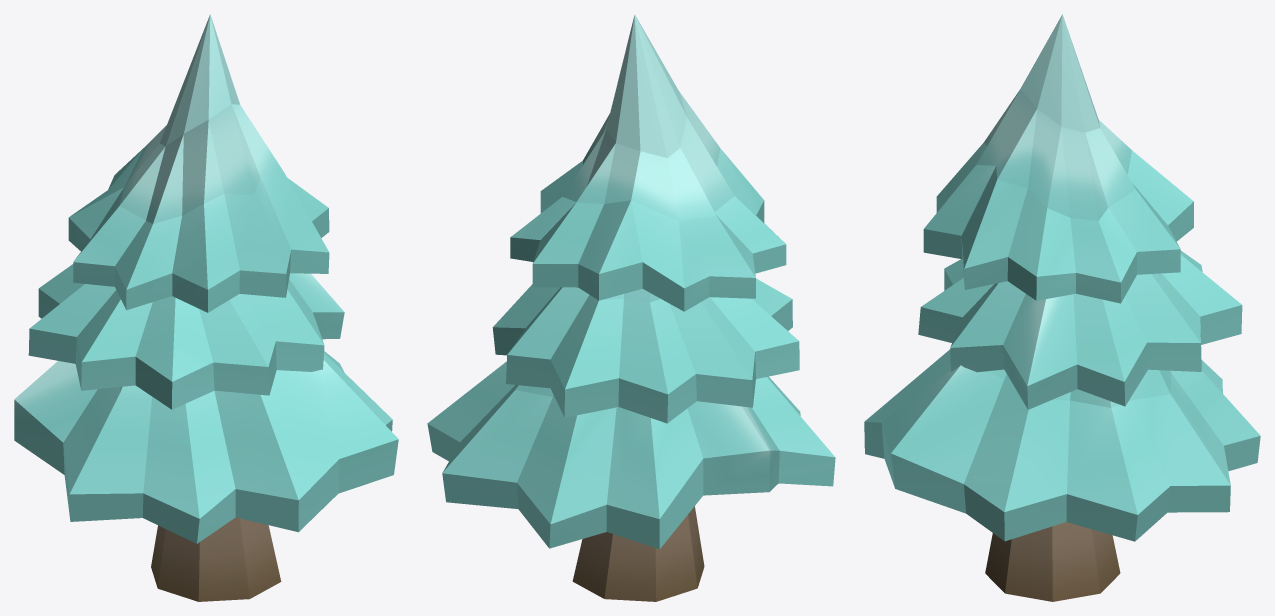
The model's file is Tree_Fern_Small_Winter.fbx.
The picture shows the model from 3 angles, left to right: view 1: azimuth 30°, elevation 25°; view 2: azimuth 150°, elevation 25°; view 3: azimuth 270°, elevation 25°; orthographic projection.
Parts seen in each view (by area): view 1: Tree_Fern_Small_Winter; view 2: Tree_Fern_Small_Winter; view 3: Tree_Fern_Small_Winter.
Part boxes in pixels (x1=…): Tree_Fern_Small_Winter: x1=14, y1=14, x2=398, y2=601; Tree_Fern_Small_Winter: x1=427, y1=14, x2=835, y2=601; Tree_Fern_Small_Winter: x1=864, y1=14, x2=1260, y2=601.
Size of the model in its own units: 162 by 256 by 164.
